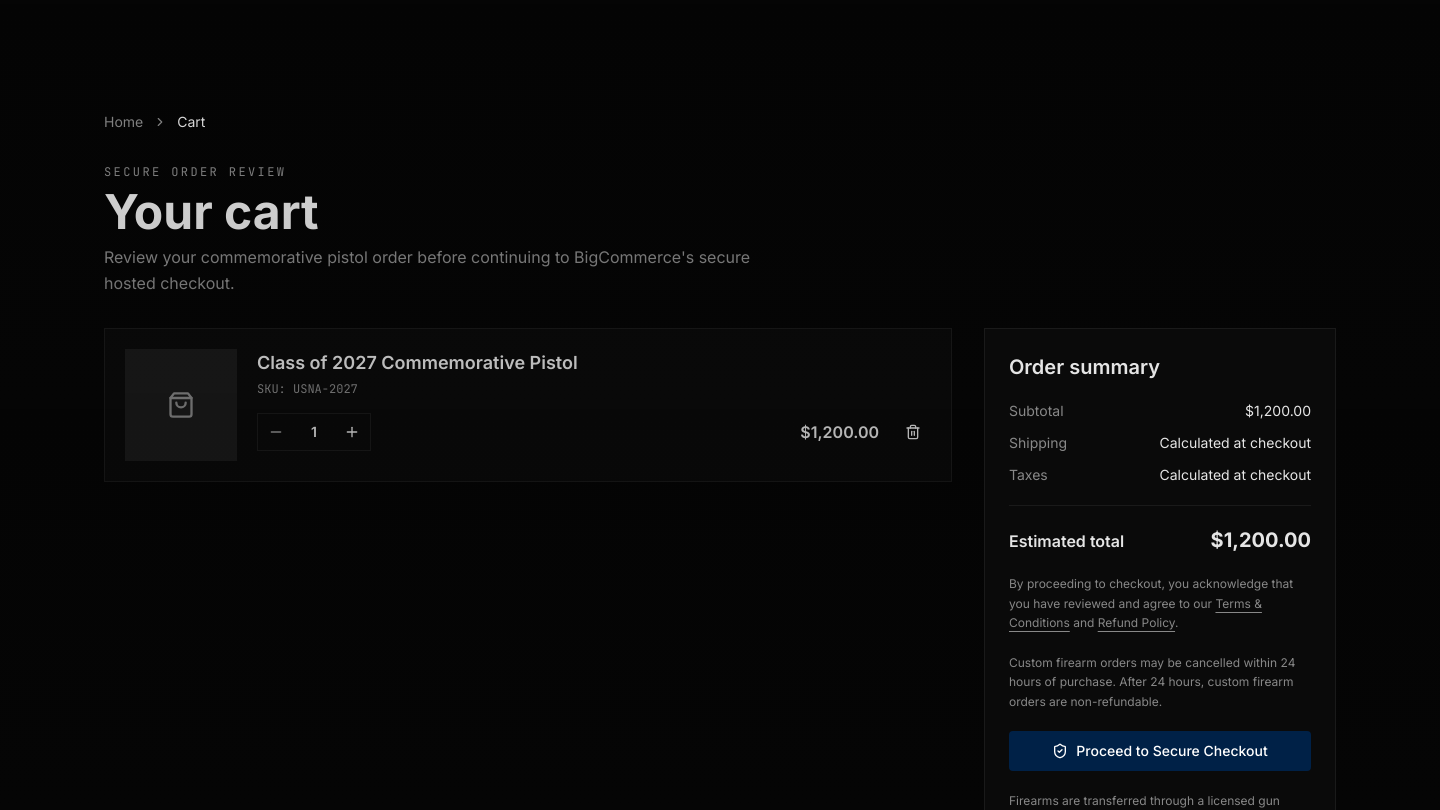
Test: Cart page — checkout guardrails & resilience › TEST: a cart that revalidates to empty blocks checkout without calling the checkout endpoint
The image size is (1440, 810).
Click the button "Proceed to Secure Checkout" at (1160, 751), box top-left (1009, 731), bottom-right (1311, 771)
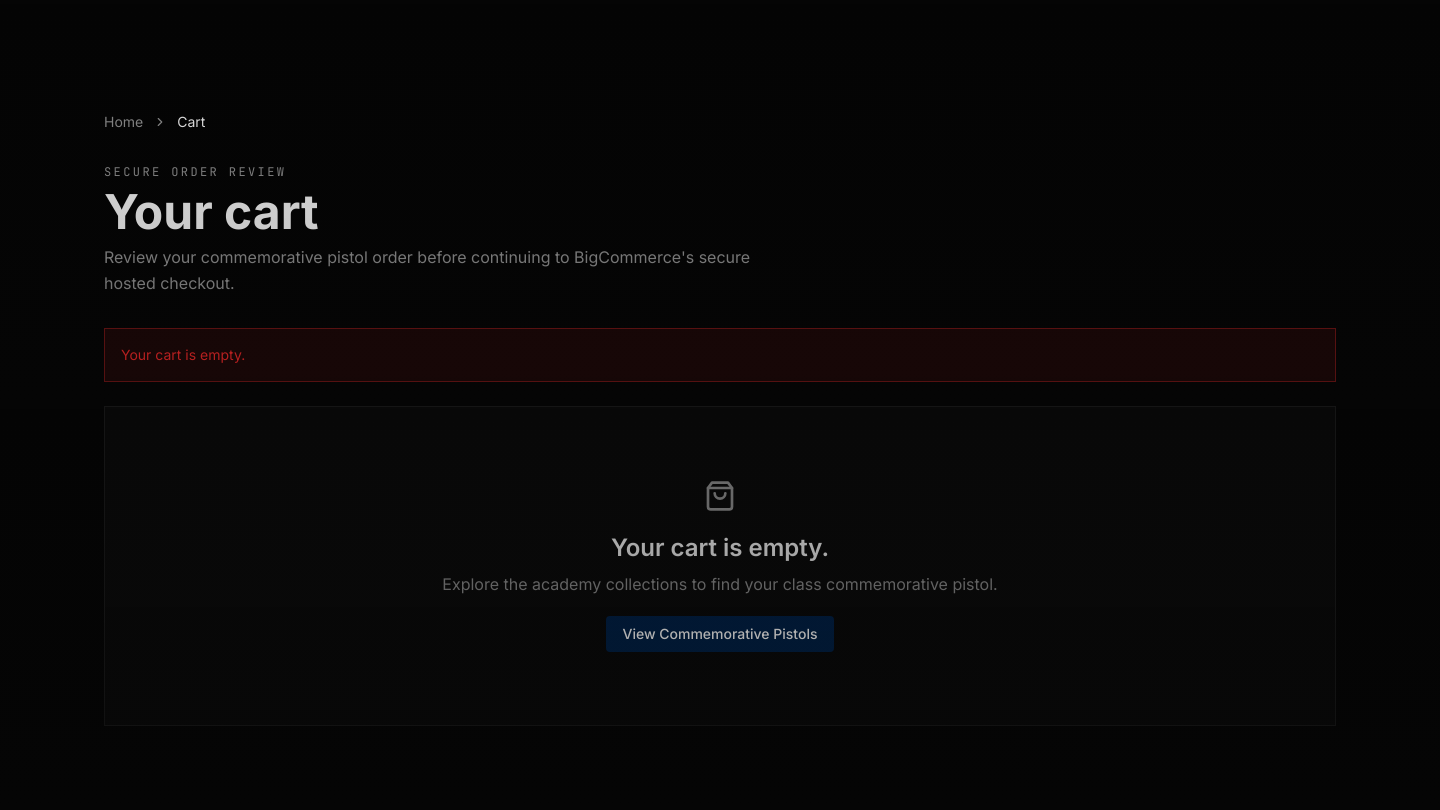
expect the heading "Your cart is empty." is shown: met, box top-left (611, 533), bottom-right (829, 562)
